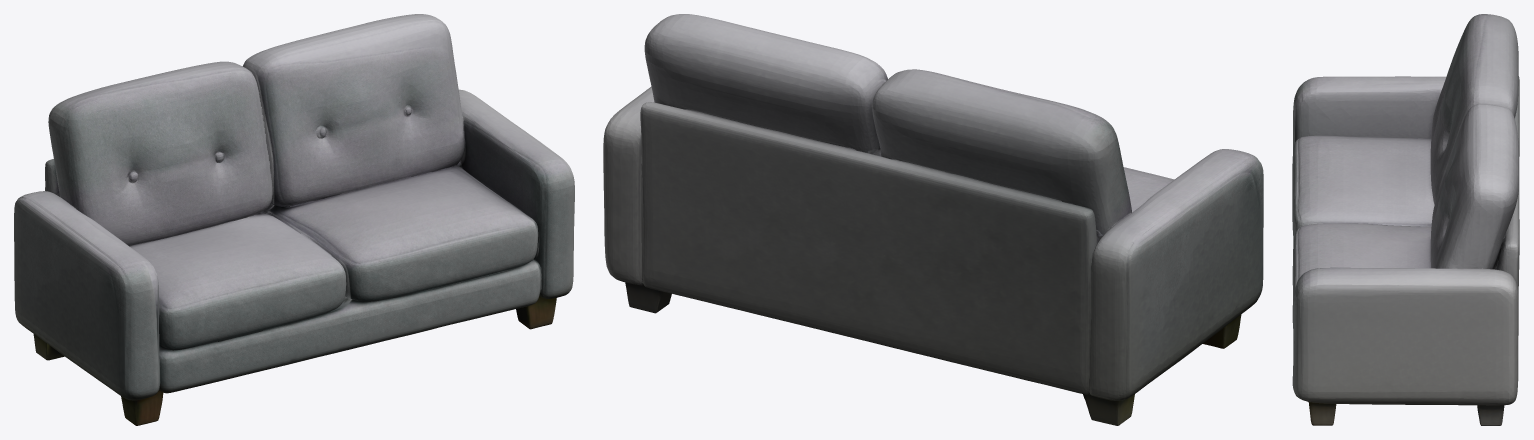
The model's file is waiting_sofa.glb.
3 renders of one model, left to right at view 1: azimuth 30°, elevation 25°; view 2: azimuth 150°, elevation 25°; view 3: azimuth 270°, elevation 25°, orthographic. The views are drawn at different scales.
Visible parts, largest first — view 1: geometry_0; view 2: geometry_0; view 3: geometry_0.
Part boxes in pixels (bbox=[...]): geometry_0: bbox=[14, 14, 574, 425]; geometry_0: bbox=[603, 14, 1263, 425]; geometry_0: bbox=[1292, 14, 1519, 425].
Bounding box in the file's own units: 0.9964 × 0.5273 × 0.4569.
Materials: 1 (1 with a texture image).
